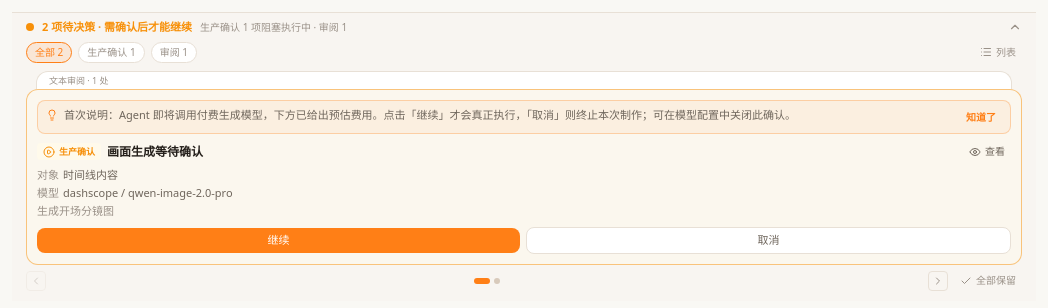
Test: DecisionTray › filters by decision kind and recovers when the filter empties
Step 1. Click the button "审阅 1" → (174, 52), box x1=151 y1=42 x2=197 y2=62
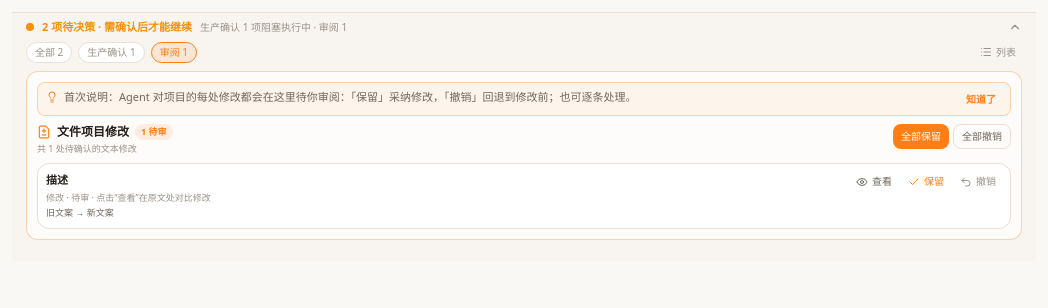
Now the text "生成开场分镜图" is gone
Now the text "旧文案 → 新文案" is shown, box x1=46 y1=206 x2=114 y2=219
Step 2. Click the button "全部 2" → (49, 52), box x1=26 y1=42 x2=72 y2=62
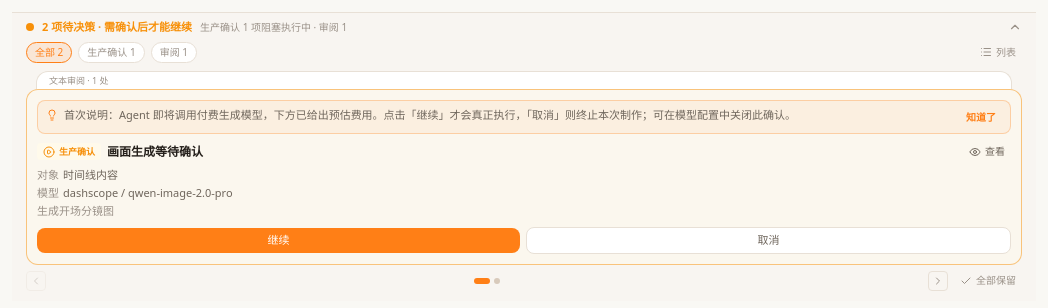
Now the text "生成开场分镜图" is shown, box x1=37 y1=203 x2=114 y2=218
